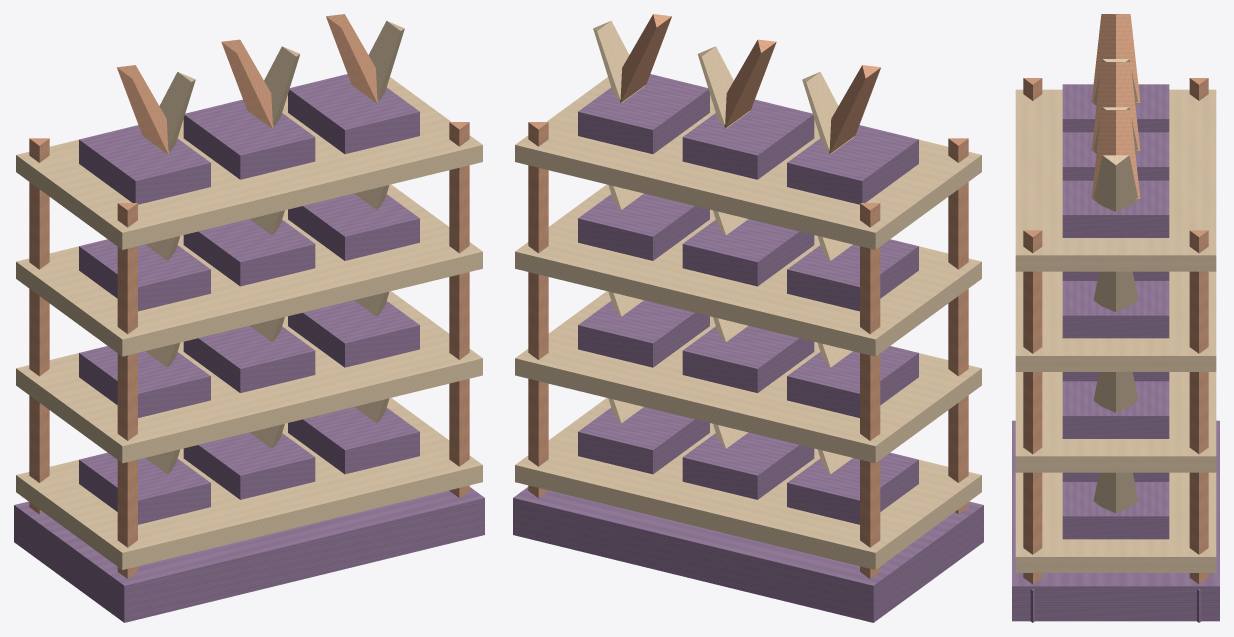
File: atlas100-s085-a01.lod2.glb
The picture shows the model from 3 angles, left to right: view 1: azimuth 30°, elevation 25°; view 2: azimuth 150°, elevation 25°; view 3: azimuth 270°, elevation 25°; orthographic projection. The views are drawn at different scales.
Parts seen in each view (by area): view 1: atlas100-s085-a01:part-000, atlas100-s085-a01:part-041, atlas100-s085-a01:part-031, atlas100-s085-a01:part-011, atlas100-s085-a01:part-021, atlas100-s085-a01:part-045, atlas100-s085-a01:part-048, atlas100-s085-a01:part-042, atlas100-s085-a01:part-015, atlas100-s085-a01:part-035, atlas100-s085-a01:part-025, atlas100-s085-a01:part-018 (+14 smaller); view 2: atlas100-s085-a01:part-000, atlas100-s085-a01:part-041, atlas100-s085-a01:part-031, atlas100-s085-a01:part-011, atlas100-s085-a01:part-021, atlas100-s085-a01:part-045, atlas100-s085-a01:part-048, atlas100-s085-a01:part-042, atlas100-s085-a01:part-015, atlas100-s085-a01:part-035, atlas100-s085-a01:part-025, atlas100-s085-a01:part-018 (+14 smaller); view 3: atlas100-s085-a01:part-041, atlas100-s085-a01:part-000, atlas100-s085-a01:part-021, atlas100-s085-a01:part-011, atlas100-s085-a01:part-031, atlas100-s085-a01:part-007, atlas100-s085-a01:part-009, atlas100-s085-a01:part-018, atlas100-s085-a01:part-038, atlas100-s085-a01:part-028, atlas100-s085-a01:part-048, atlas100-s085-a01:part-045 (+13 smaller).
Boxes of the visible parts, <box> form: atlas100-s085-a01:part-000: <box>14,487,484,622</box>; atlas100-s085-a01:part-041: <box>16,77,482,249</box>; atlas100-s085-a01:part-031: <box>16,184,482,356</box>; atlas100-s085-a01:part-011: <box>16,398,482,569</box>; atlas100-s085-a01:part-021: <box>16,291,482,463</box>; atlas100-s085-a01:part-045: <box>183,99,315,179</box>; atlas100-s085-a01:part-048: <box>288,74,419,154</box>; atlas100-s085-a01:part-042: <box>79,125,210,204</box>; atlas100-s085-a01:part-015: <box>183,432,315,499</box>; atlas100-s085-a01:part-035: <box>183,219,315,286</box>; atlas100-s085-a01:part-025: <box>183,325,315,392</box>; atlas100-s085-a01:part-018: <box>288,407,419,474</box>; atlas100-s085-a01:part-000: <box>513,487,983,622</box>; atlas100-s085-a01:part-041: <box>515,77,981,249</box>; atlas100-s085-a01:part-031: <box>515,184,981,356</box>; atlas100-s085-a01:part-011: <box>515,398,981,569</box>; atlas100-s085-a01:part-021: <box>515,291,981,463</box>; atlas100-s085-a01:part-045: <box>682,99,814,179</box>; atlas100-s085-a01:part-048: <box>578,74,709,154</box>; atlas100-s085-a01:part-042: <box>787,125,918,204</box>; atlas100-s085-a01:part-015: <box>682,432,814,499</box>; atlas100-s085-a01:part-035: <box>682,219,814,286</box>; atlas100-s085-a01:part-025: <box>682,325,814,392</box>; atlas100-s085-a01:part-018: <box>578,407,709,474</box>; atlas100-s085-a01:part-041: <box>1015,89,1216,271</box>; atlas100-s085-a01:part-000: <box>1012,420,1219,621</box>; atlas100-s085-a01:part-021: <box>1015,372,1216,472</box>; atlas100-s085-a01:part-011: <box>1015,472,1216,572</box>; atlas100-s085-a01:part-031: <box>1015,271,1216,371</box>; atlas100-s085-a01:part-007: <box>1189,230,1208,584</box>; atlas100-s085-a01:part-009: <box>1023,230,1042,584</box>; atlas100-s085-a01:part-018: <box>1062,482,1169,539</box>; atlas100-s085-a01:part-038: <box>1062,281,1169,338</box>; atlas100-s085-a01:part-028: <box>1062,381,1169,438</box>; atlas100-s085-a01:part-048: <box>1062,180,1169,237</box>; atlas100-s085-a01:part-045: <box>1062,132,1169,180</box>.
Bounding box in the file's own units: 2.66 × 3.51 × 1.4.
Materials: 3 (3 with a texture image).
